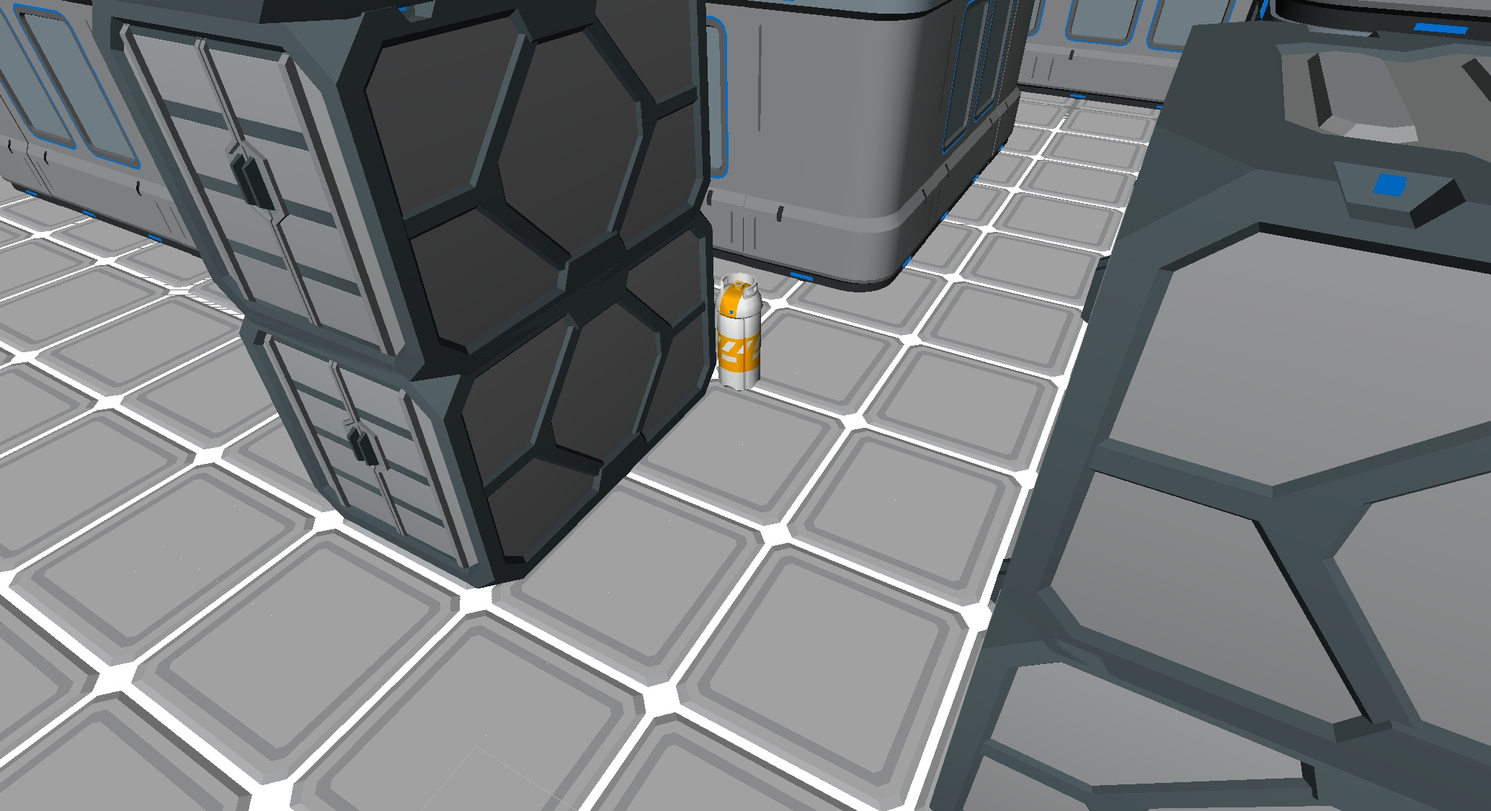yellow_barrel: (716, 272, 770, 391)
